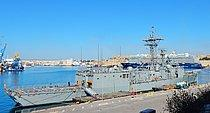MIL_Ship: (3, 24, 197, 105)
